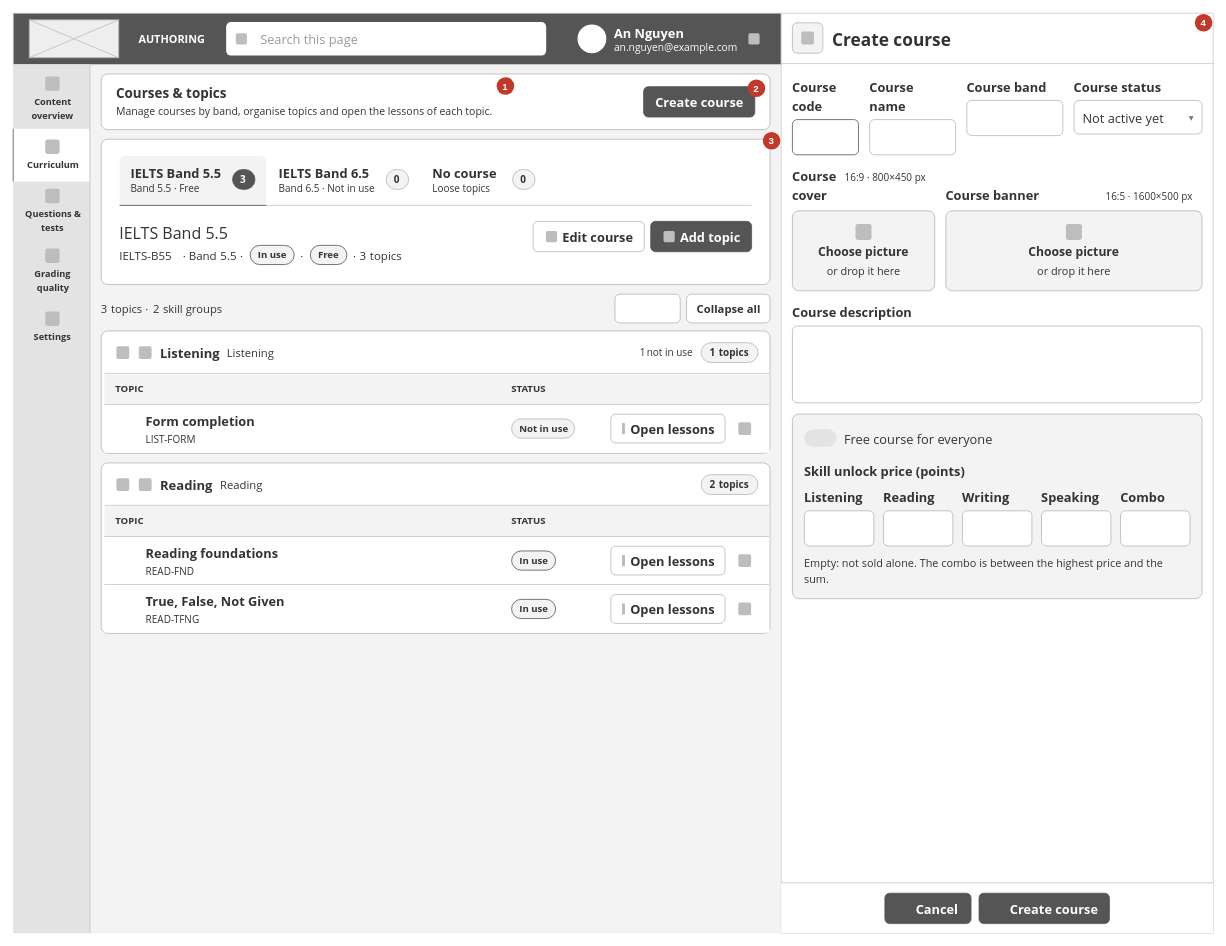
Image size: 1226x946. Some labels were removed from this diagram. The shapes that lost their labels are listed below. From the top down, each one's centre as x and y in pixels, then its label:
At point (591, 38): "AN".
At point (647, 308): "Open all".
